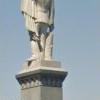Statue: (13, 0, 70, 84)
